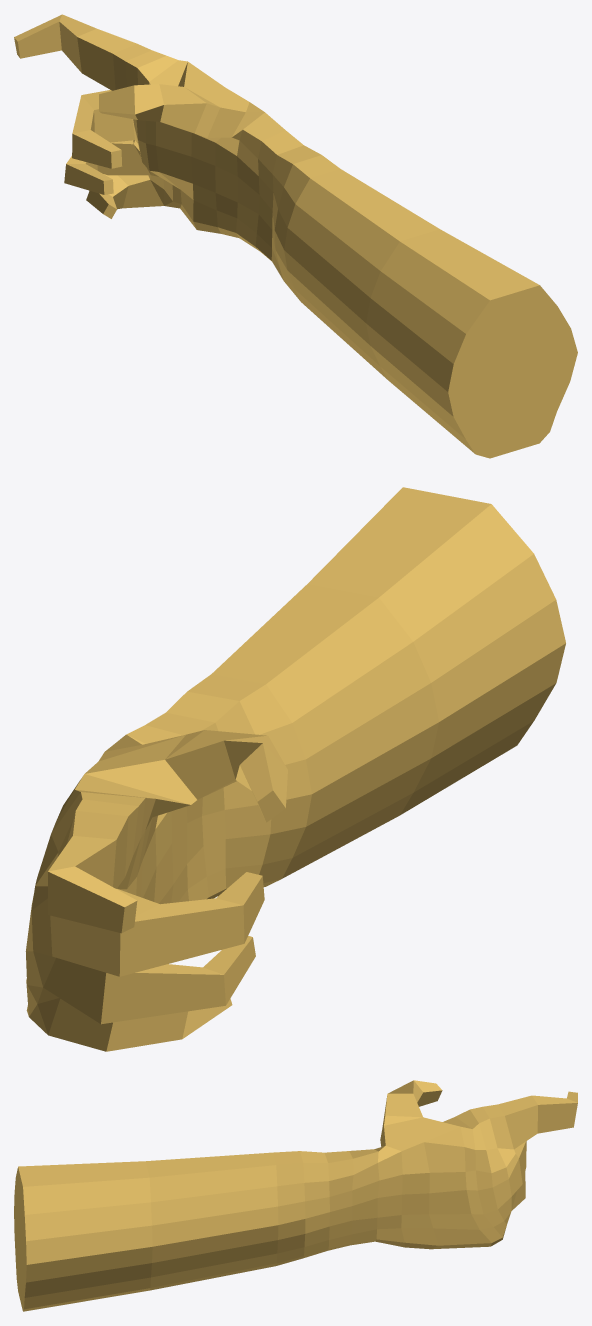
Rendered from mesh_handScale_01.fbx.
3 renders of one model, top to bottom at view 1: azimuth 30°, elevation 25°; view 2: azimuth 150°, elevation 25°; view 3: azimuth 270°, elevation 25°, orthographic. The views are drawn at different scales.
Visible parts, largest first — view 1: Cube.015; view 2: Cube.015; view 3: Cube.015.
Part boxes in pixels (box(x1,y1,x2,y2)): Cube.015: box(14, 14, 577, 458); Cube.015: box(25, 487, 565, 1051); Cube.015: box(14, 1080, 577, 1311).
Size of the model in its own units: 12.08 by 11.11 by 33.3.
